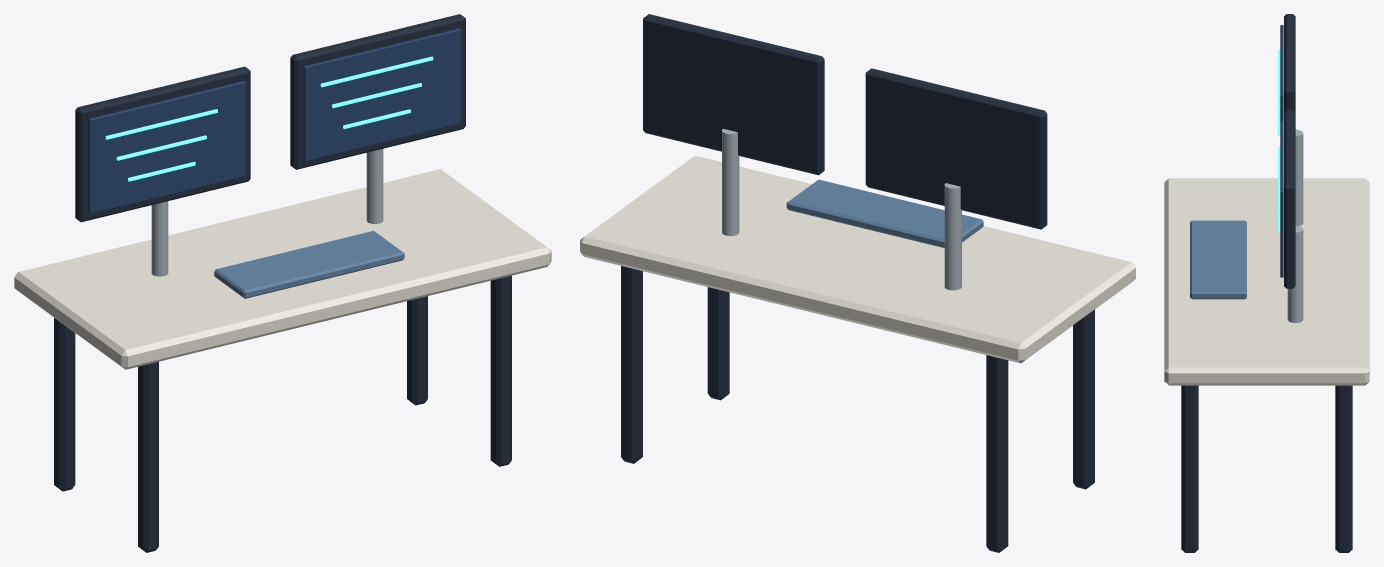
File: lab_10.glb
3 renders of one model, left to right at view 1: azimuth 30°, elevation 25°; view 2: azimuth 150°, elevation 25°; view 3: azimuth 270°, elevation 25°, orthographic. The views are drawn at different scales.
Parts seen in each view (by area): view 1: TableTop, Screen (×2), Leg (×4), MonitorFrame (×2), Keyboard, MonitorPole (×2); view 2: TableTop, MonitorFrame (×2), Leg (×4), Keyboard, MonitorPole (×2); view 3: TableTop, Leg (×2), Keyboard, MonitorFrame (×2), MonitorPole (×2), Screen (×2).
Part boxes in pixels (x1=…): TableTop: x1=14, y1=169, x2=551, y2=369; Screen (×2): x1=88, y1=28, x2=461, y2=213; Leg (×4): x1=54, y1=275, x2=511, y2=552; MonitorFrame (×2): x1=75, y1=14, x2=465, y2=222; Keyboard: x1=214, y1=231, x2=404, y2=298; MonitorPole (×2): x1=151, y1=149, x2=383, y2=276; TableTop: x1=580, y1=155, x2=1135, y2=363; MonitorFrame (×2): x1=643, y1=14, x2=1047, y2=229; Leg (×4): x1=621, y1=266, x2=1094, y2=552; Keyboard: x1=786, y1=179, x2=983, y2=247; MonitorPole (×2): x1=722, y1=128, x2=961, y2=290; TableTop: x1=1164, y1=178, x2=1369, y2=385; Leg (×2): x1=1181, y1=385, x2=1352, y2=552; Keyboard: x1=1190, y1=220, x2=1246, y2=299; MonitorFrame (×2): x1=1284, y1=14, x2=1295, y2=288; MonitorPole (×2): x1=1287, y1=129, x2=1303, y2=322; Screen (×2): x1=1280, y1=25, x2=1283, y2=277.
Size of the model in its own units: 1.6 by 1.44 by 0.72.
